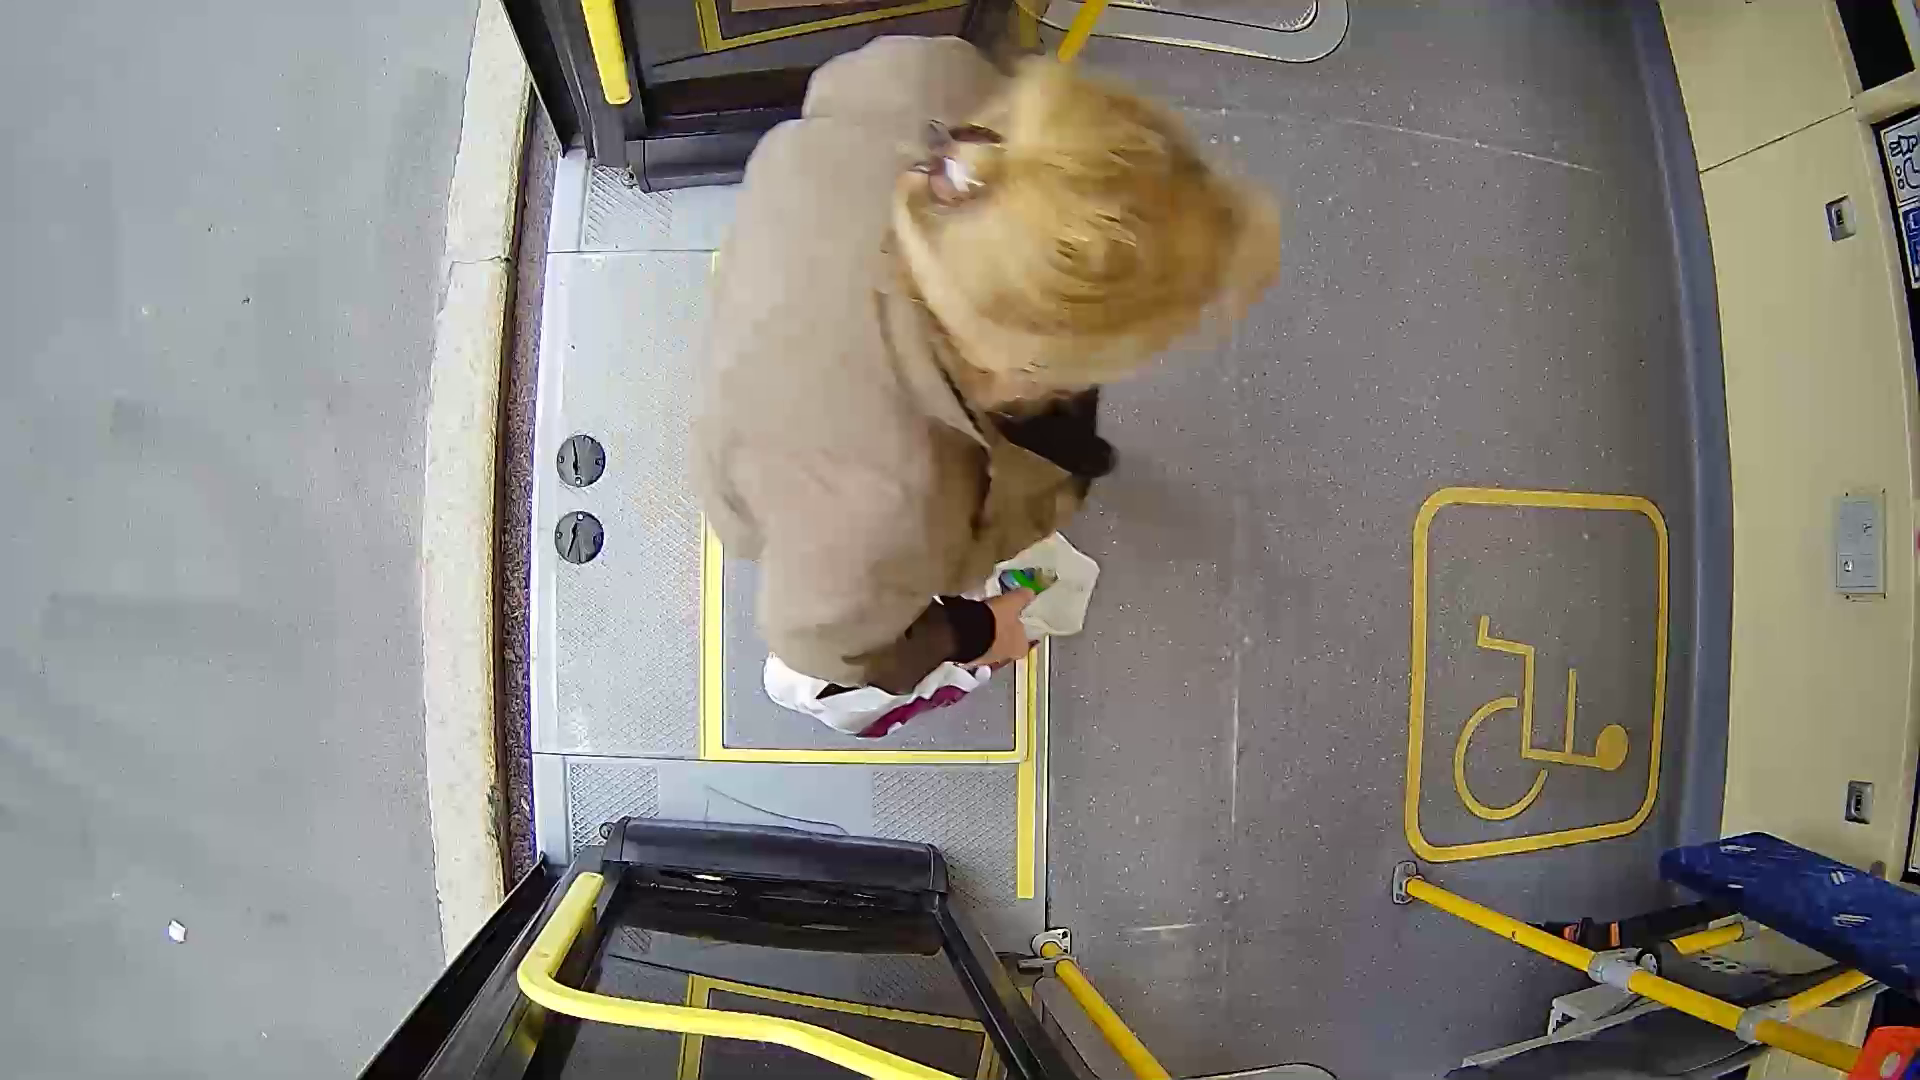person: (647, 63, 1278, 700)
